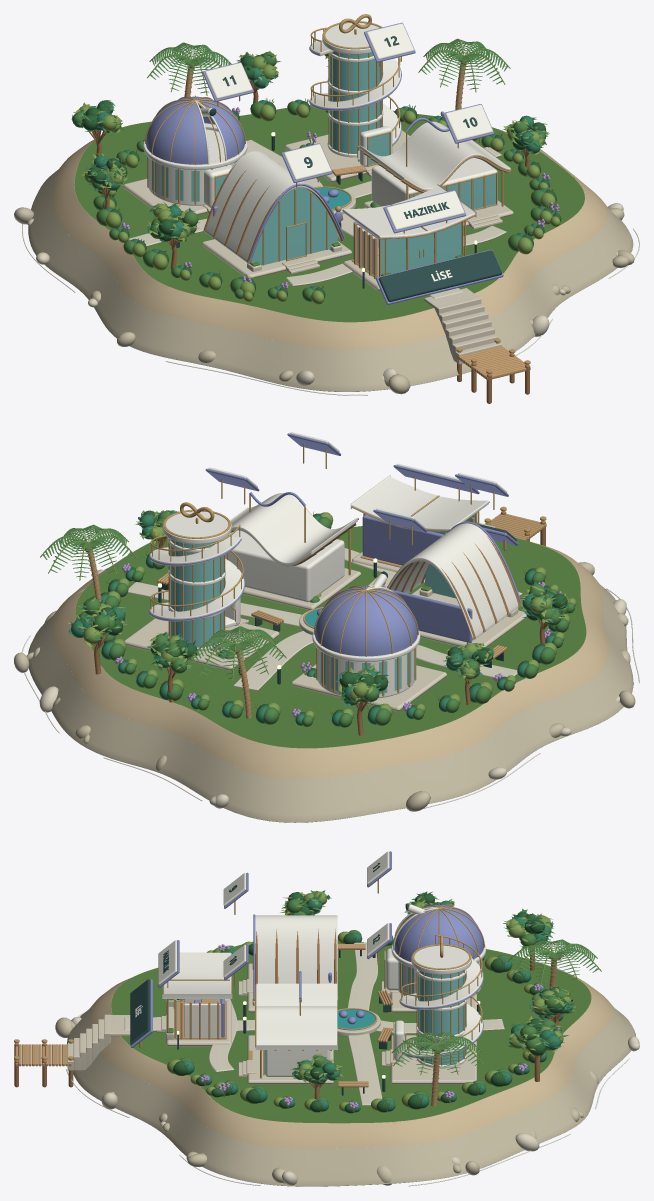
File: lise.glb
3 renders of one model, top to bottom at view 1: azimuth 30°, elevation 25°; view 2: azimuth 150°, elevation 25°; view 3: azimuth 270°, elevation 25°, orthographic. The views are drawn at different scales.
Parts seen in each view (by area): view 1: static, grade|9, grade|12, grade|11, grade|10, grade|hazirlik; view 2: static, grade|12, grade|9, grade|11, grade|10, grade|hazirlik; view 3: static, grade|12, grade|10, grade|9, grade|hazirlik, grade|11.
Part boxes in pixels (x1=…): static: x1=14, y1=38, x2=639, y2=403; grade|9: x1=202, y1=143, x2=351, y2=278; grade|12: x1=285, y1=14, x2=415, y2=182; grade|11: x1=123, y1=62, x2=253, y2=215; grade|10: x1=360, y1=104, x2=513, y2=229; grade|hazirlik: x1=342, y1=184, x2=477, y2=290; static: x1=14, y1=506, x2=639, y2=822; grade|12: x1=124, y1=467, x2=279, y2=670; grade|9: x1=387, y1=473, x2=526, y2=647; grade|11: x1=291, y1=508, x2=446, y2=711; grade|10: x1=225, y1=432, x2=360, y2=610; grade|hazirlik: x1=350, y1=463, x2=489, y2=578; static: x1=14, y1=890, x2=639, y2=1186; grade|12: x1=367, y1=923, x2=483, y2=1084; grade|10: x1=223, y1=944, x2=337, y2=1084; grade|9: x1=223, y1=872, x2=338, y2=1012; grade|hazirlik: x1=156, y1=940, x2=232, y2=1049; grade|11: x1=367, y1=851, x2=486, y2=1012.
Bounding box in the file's own units: 19.34 × 7.36 × 22.51.
